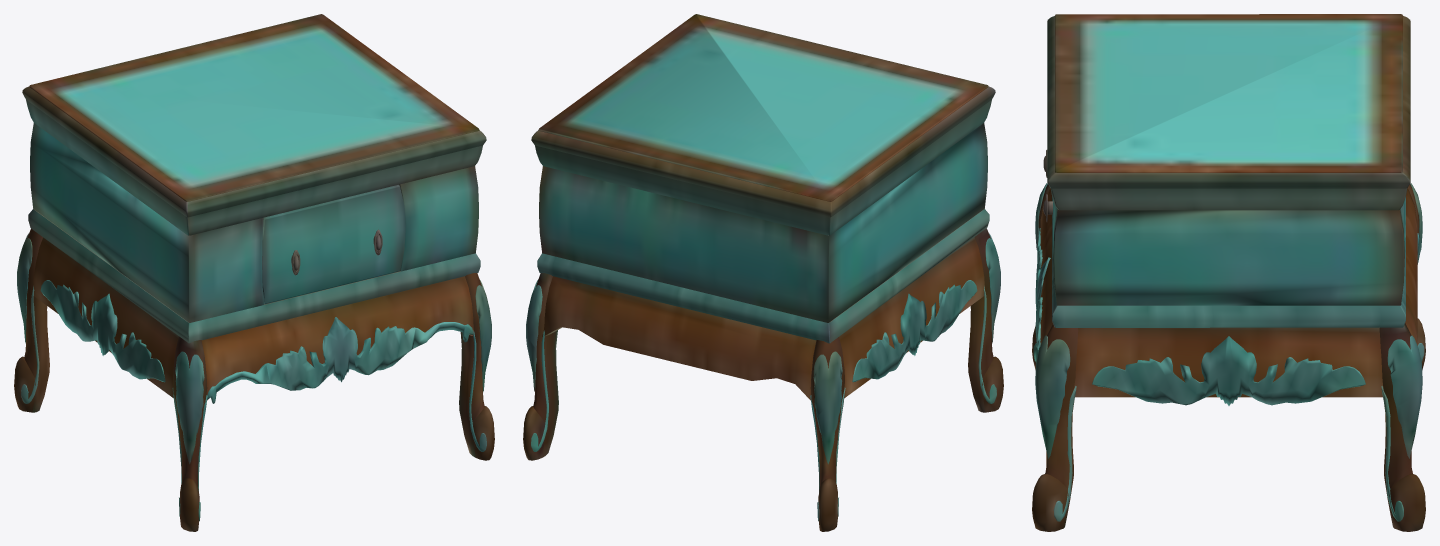
File: ph-coffeetable-01.glb
The picture shows the model from 3 angles, left to right: view 1: azimuth 30°, elevation 25°; view 2: azimuth 150°, elevation 25°; view 3: azimuth 270°, elevation 25°; orthographic projection. The views are drawn at different scales.
Visible parts, largest first — view 1: CoffeeTable_01; view 2: CoffeeTable_01; view 3: CoffeeTable_01.
Part boxes in pixels (box(x1,y1,x2,y2)): CoffeeTable_01: box(14, 14, 494, 531); CoffeeTable_01: box(523, 14, 1003, 531); CoffeeTable_01: box(1032, 14, 1425, 531).
Size of the model in its own units: 1 by 1 by 1.
Materials: 1 (1 with a texture image).
